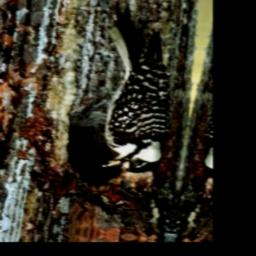Woodpecker: (83, 2, 187, 179)
